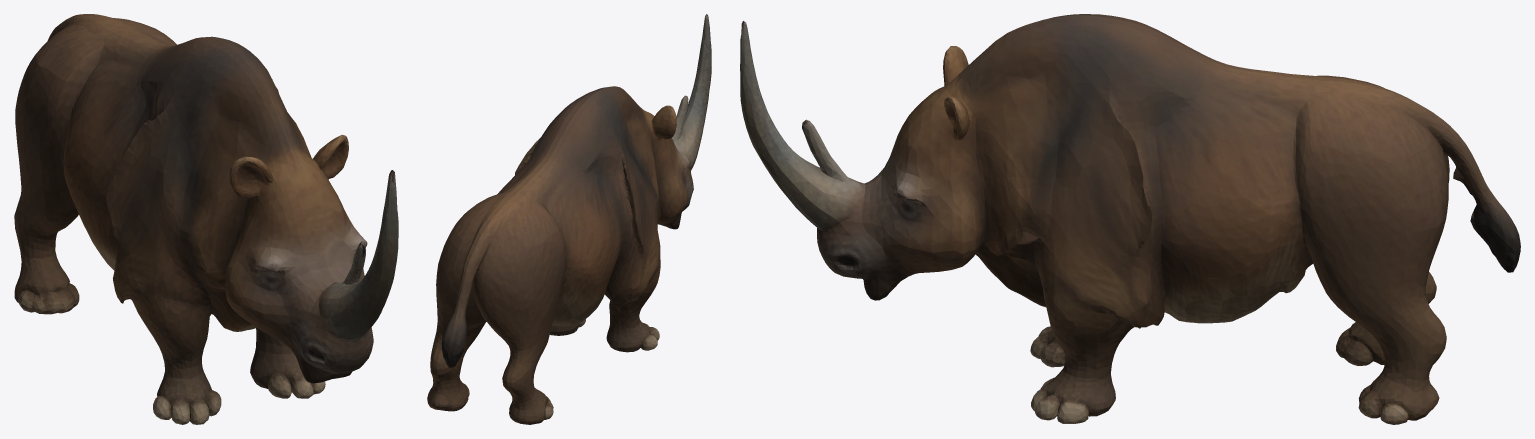
The picture shows the model from 3 angles, left to right: view 1: azimuth 30°, elevation 25°; view 2: azimuth 150°, elevation 25°; view 3: azimuth 270°, elevation 25°; orthographic projection. The views are drawn at different scales.
Parts seen in each view (by area): view 1: world; view 2: world; view 3: world.
Boxes of the visible parts, left/top/right/bottom form: world: left=14, top=14, right=398, bottom=424; world: left=427, top=14, right=711, bottom=424; world: left=740, top=14, right=1520, bottom=424.
Bounding box in the file's own units: 0.2983 × 0.5189 × 0.996.
Materials: 1 (1 with a texture image).
